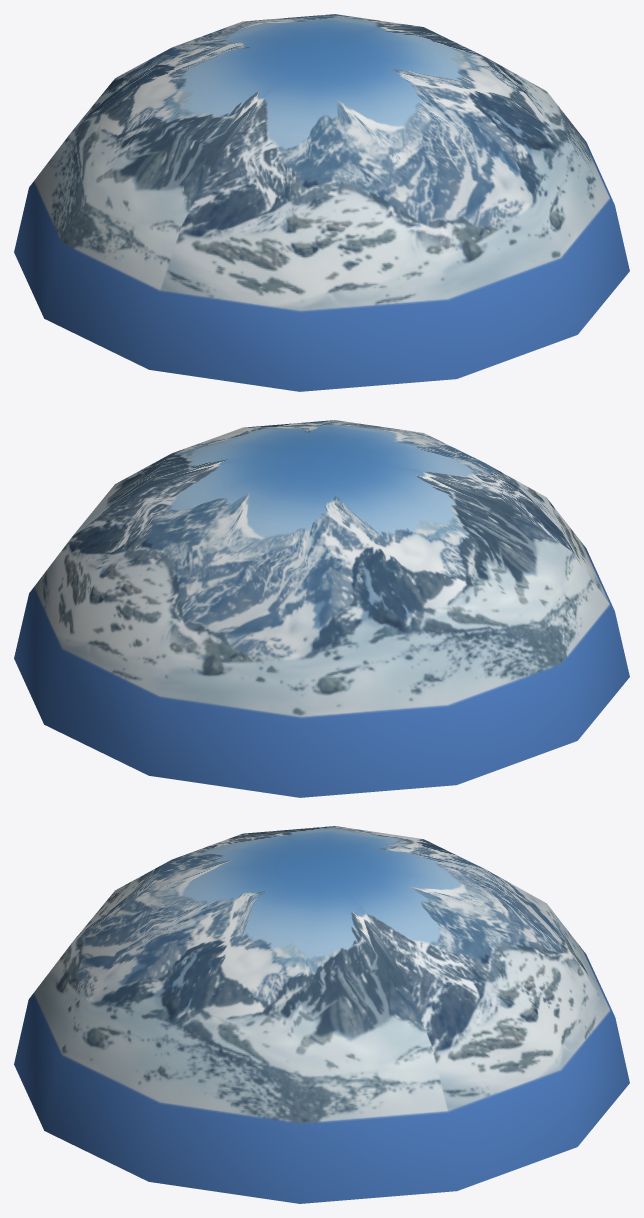
Rendered from env_van_campsite_01_pre.glb.
The picture shows the model from 3 angles, top to bottom: view 1: azimuth 30°, elevation 25°; view 2: azimuth 150°, elevation 25°; view 3: azimuth 270°, elevation 25°; orthographic projection.
Visible parts, largest first — view 1: skybox_01_mesh; view 2: skybox_01_mesh; view 3: skybox_01_mesh.
Boxes of the visible parts, bbox=[...] form: skybox_01_mesh: bbox=[14, 14, 629, 391]; skybox_01_mesh: bbox=[14, 420, 629, 797]; skybox_01_mesh: bbox=[14, 826, 629, 1203].
Size of the model in its own units: 440 by 160 by 423.
13 materials, 13 textured.
